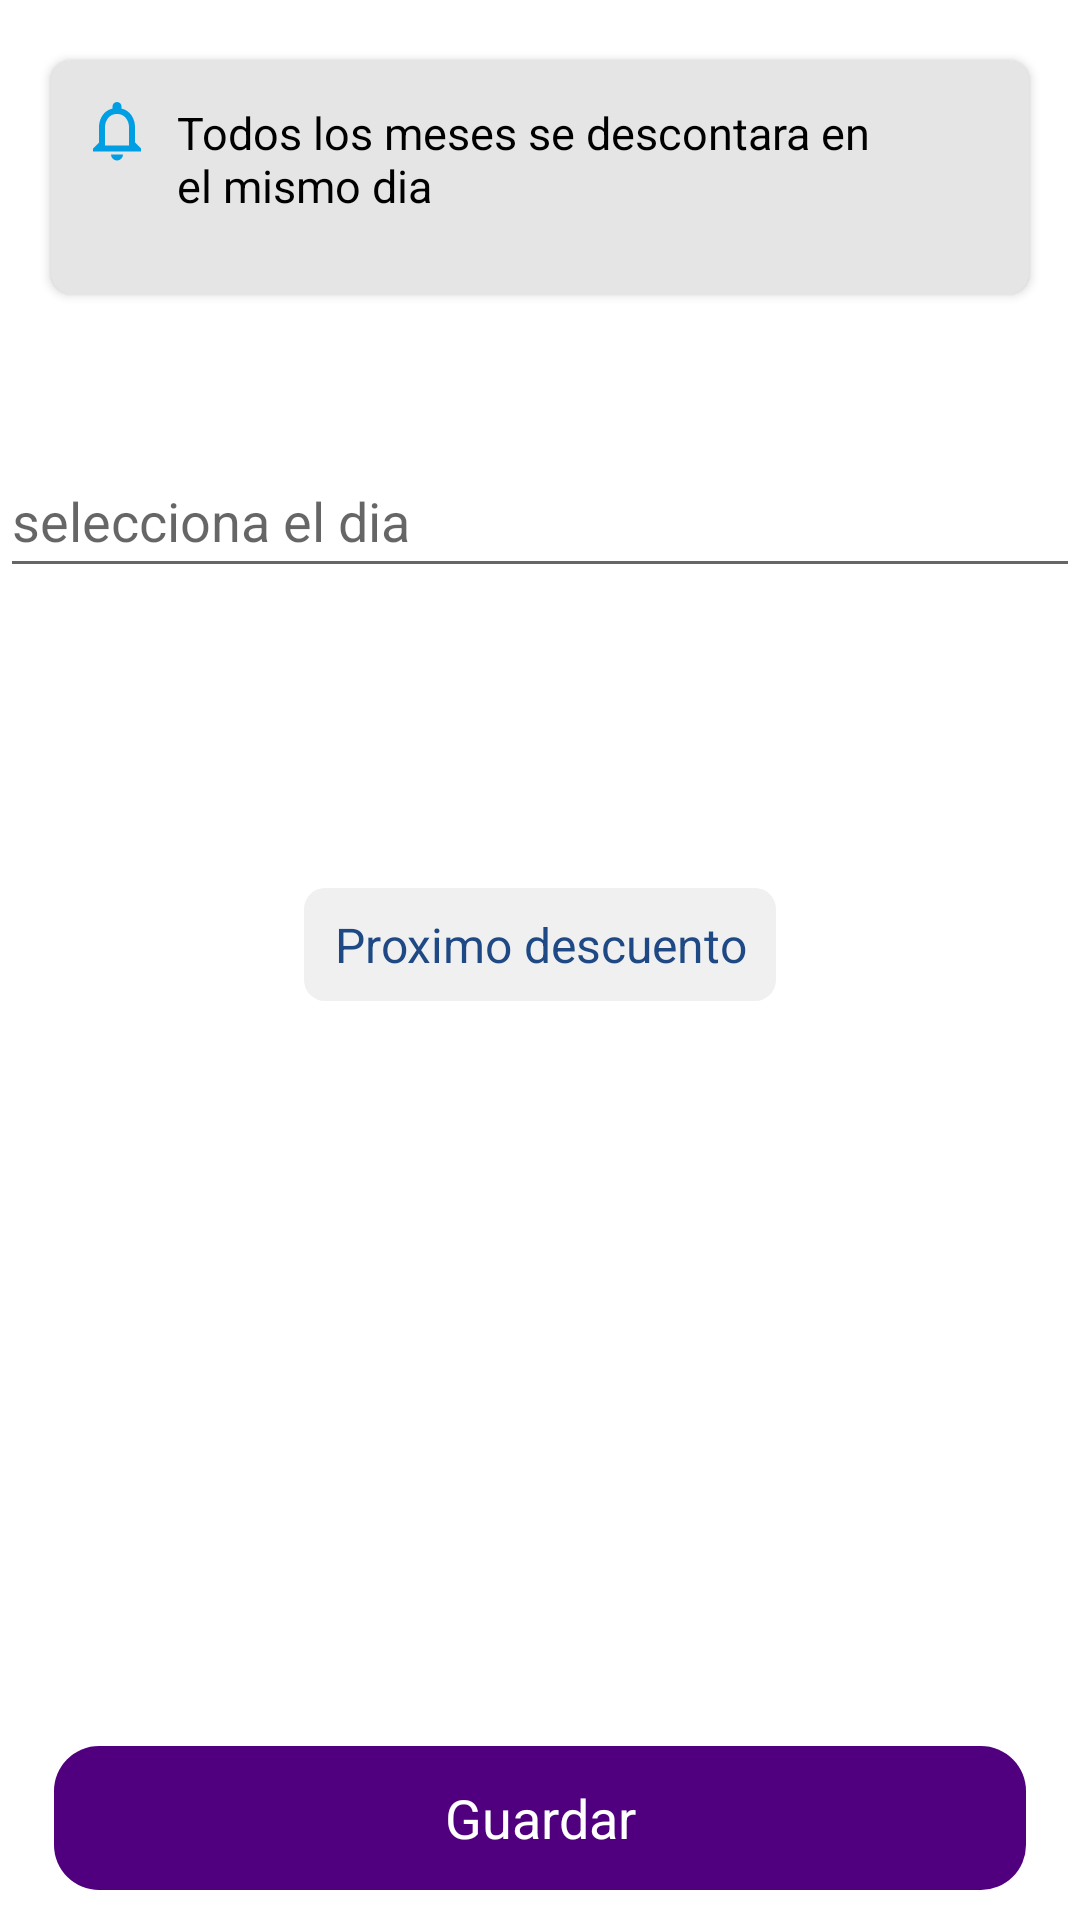

Point at icon controls on the screen. Image size 1080x1920, points as (x,y).
social notificationspx: (117,131)
